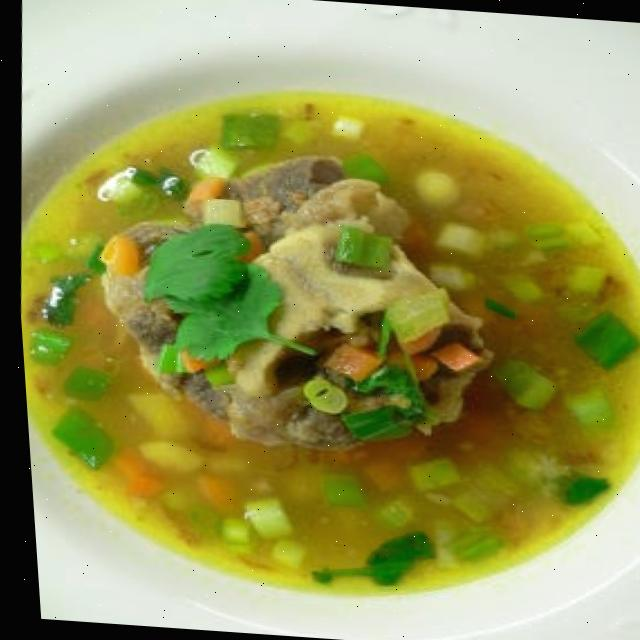汤锅炖物: (2, 41, 640, 633)
